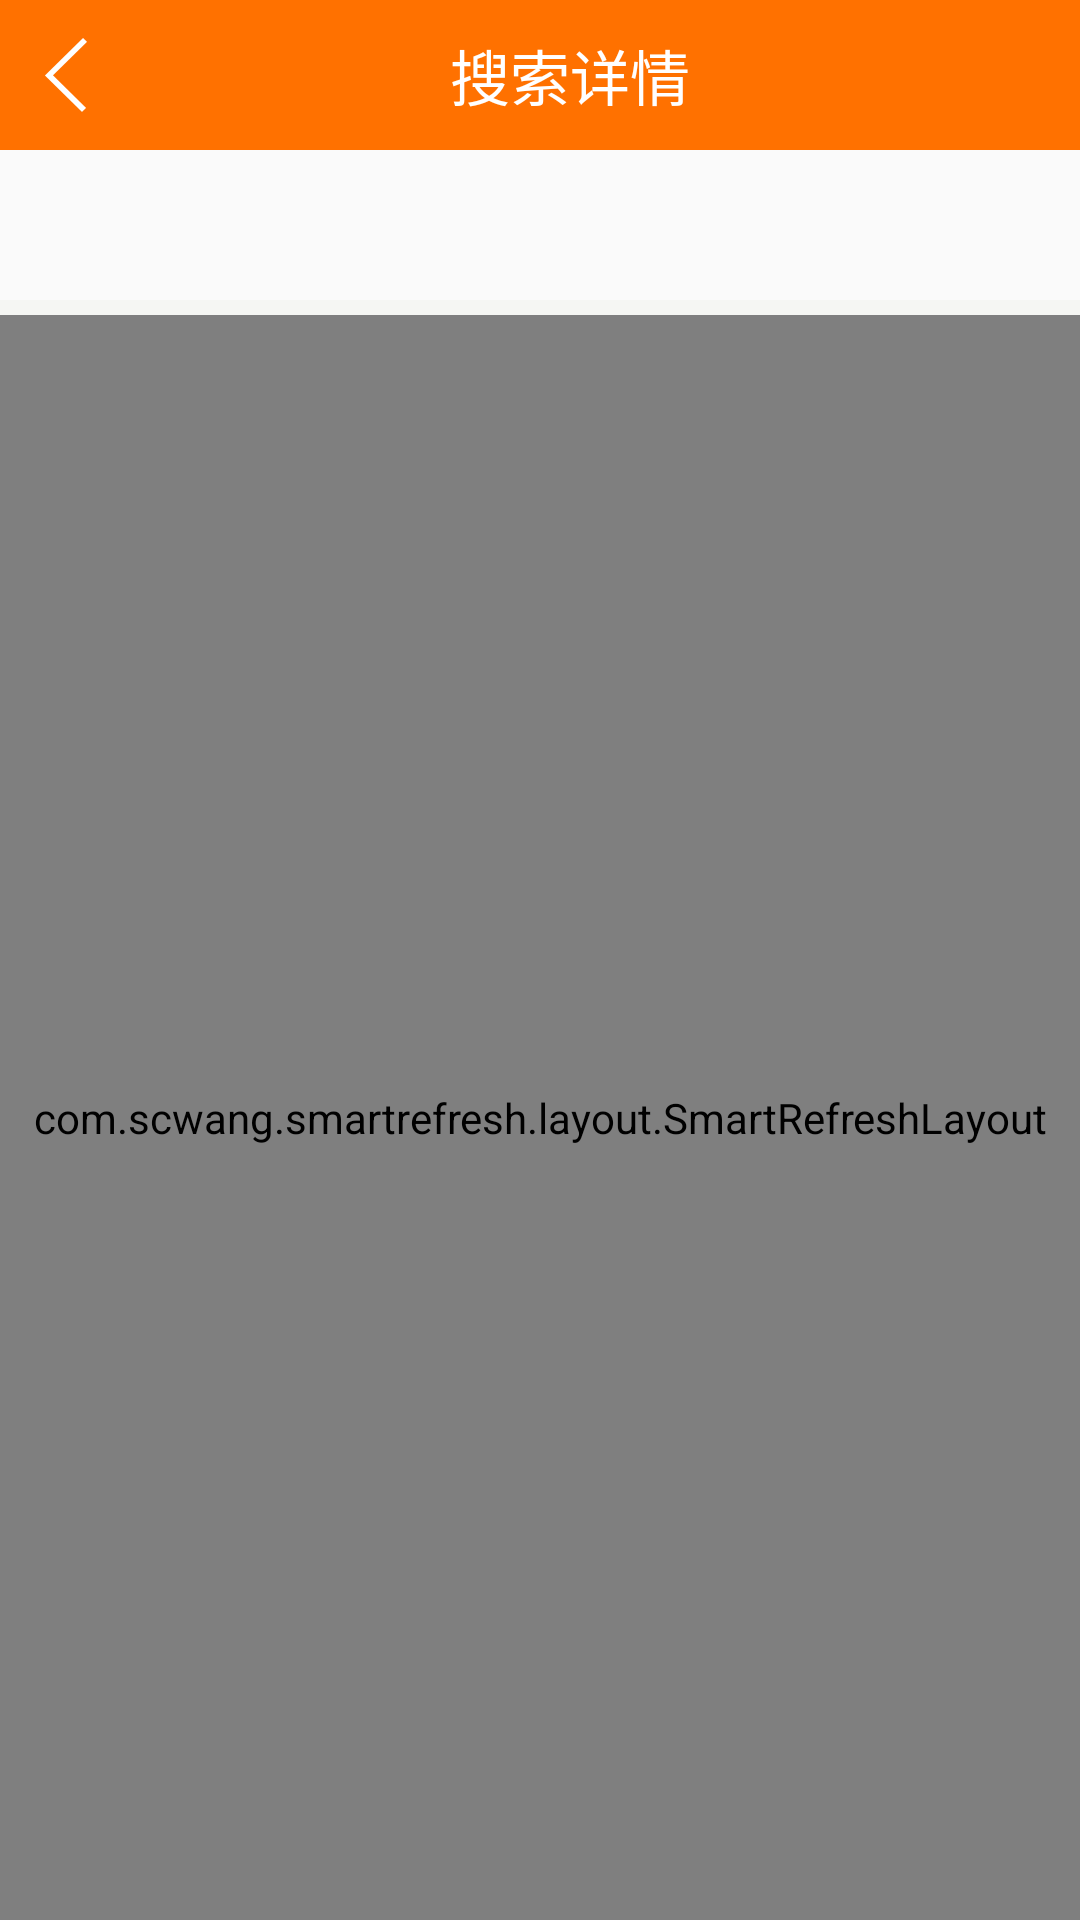

Icon bounding boxes for this 1080 × 1920 phone screenshot, format box(x1, y1, x2, y2):
backl: box(45, 38, 87, 112)
